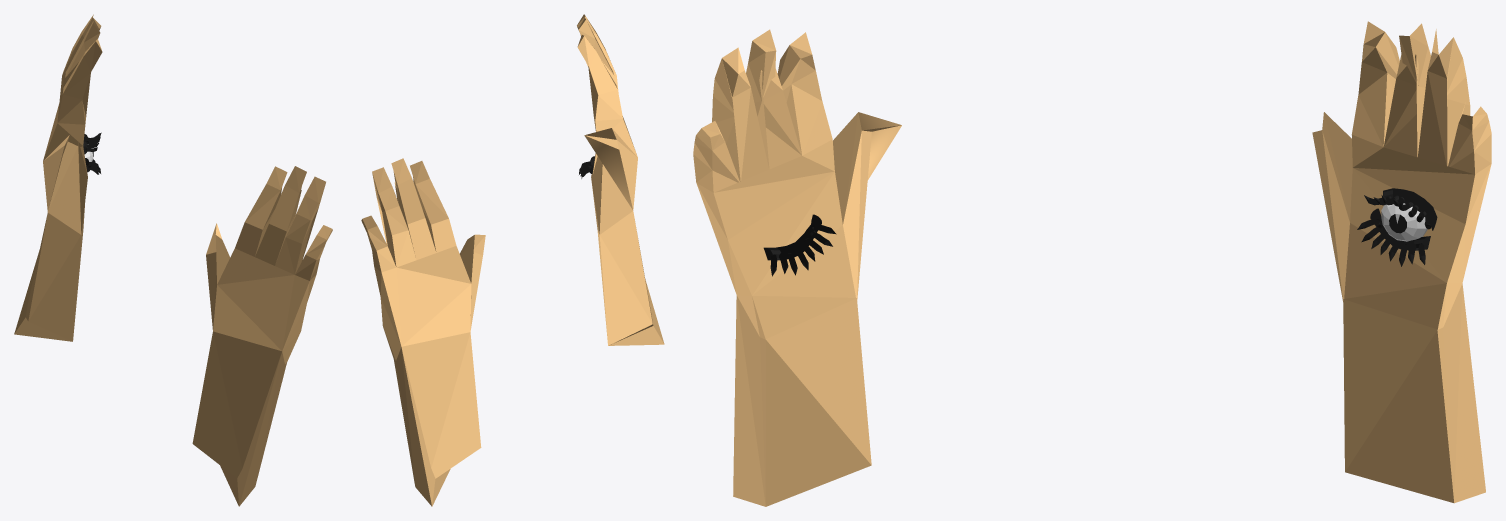
The model's file is handeyesspread.glb.
The picture shows the model from 3 angles, left to right: view 1: azimuth 30°, elevation 25°; view 2: azimuth 150°, elevation 25°; view 3: azimuth 270°, elevation 25°; orthographic projection. The views are drawn at different scales.
Parts seen in each view (by area): view 1: Node; view 2: Node; view 3: Node.
Part boxes in pixels (left/top/right/bottom): Node: left=14, top=14, right=332, bottom=506; Node: left=361, top=14, right=664, bottom=506; Node: left=693, top=21, right=1491, bottom=506.
Bounding box in the file's own units: 0.3485 × 1.03 × 1.4.
